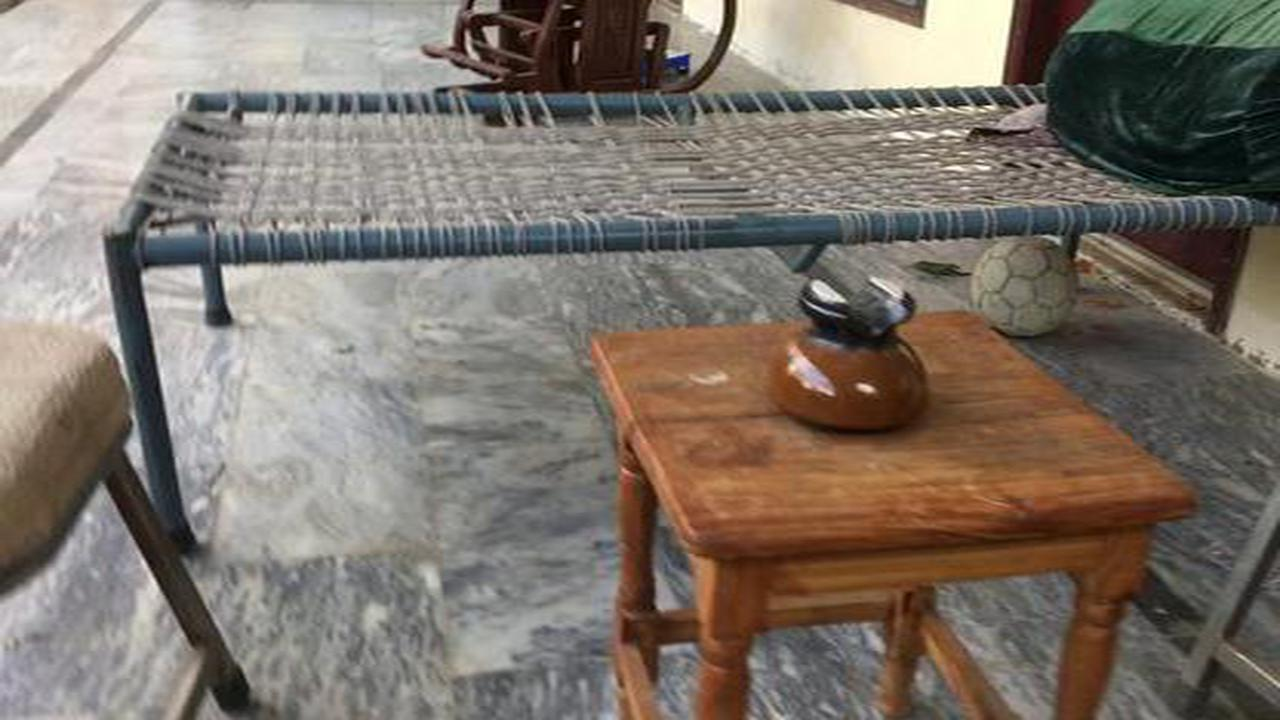insulator_pin: (745, 258, 957, 442)
